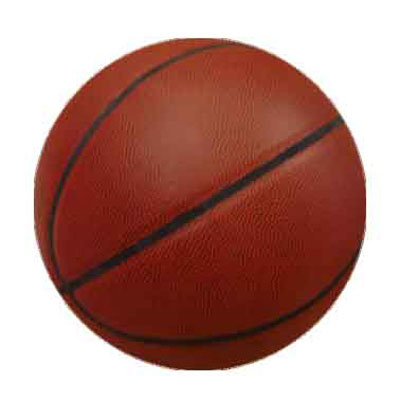basketball: (35, 37, 366, 371)
